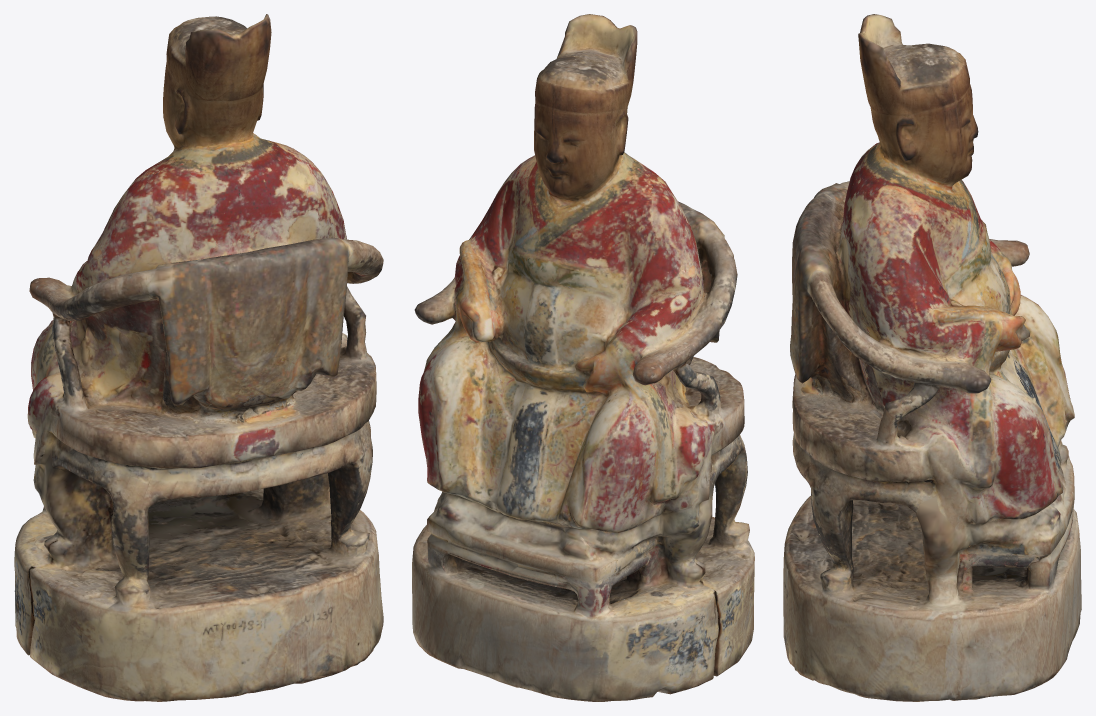
The model's file is MTY004831.glb.
The picture shows the model from 3 angles, left to right: view 1: azimuth 30°, elevation 25°; view 2: azimuth 150°, elevation 25°; view 3: azimuth 270°, elevation 25°; orthographic projection. The views are drawn at different scales.
Parts seen in each view (by area): view 1: MTY004831; view 2: MTY004831; view 3: MTY004831.
Boxes of the visible parts, left/top/right/bottom form: MTY004831: left=14, top=14, right=383, bottom=701; MTY004831: left=412, top=14, right=754, bottom=701; MTY004831: left=783, top=14, right=1081, bottom=701.
Bounding box in the file's own units: 39.77 × 75.44 × 33.69.
Materials: 1 (1 with a texture image).
